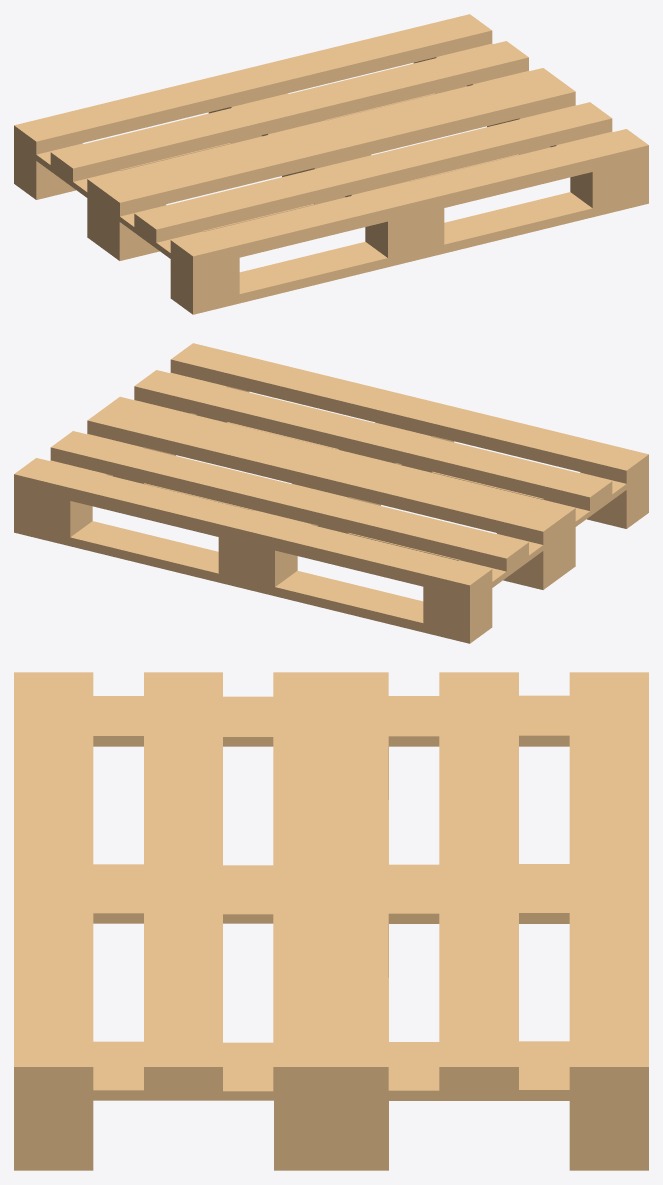
The model's file is Europalette3D.dae.
3 views of the same model, one above another, from view 1: azimuth 30°, elevation 25°; view 2: azimuth 150°, elevation 25°; view 3: azimuth 270°, elevation 25° (orthographic). The views are drawn at different scales.
Visible parts, largest first — view 1: node0; view 2: node0; view 3: node0.
Boxes of the visible parts, box(x1,y1,x2,y2) form: node0: box(14, 14, 648, 314); node0: box(14, 343, 648, 643); node0: box(14, 672, 648, 1170).
Size of the model in its own units: 1.18 by 0.8 by 0.144.
